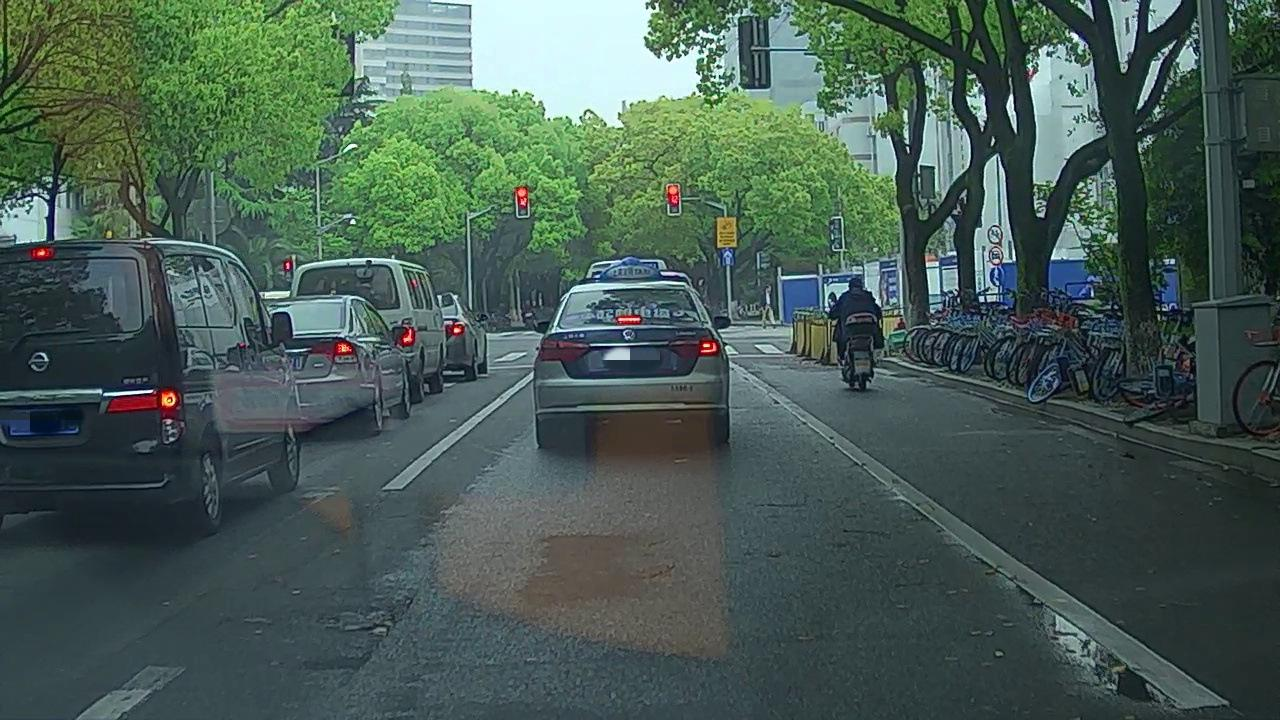traffic_light: (514, 186, 529, 215), (667, 186, 680, 215)
